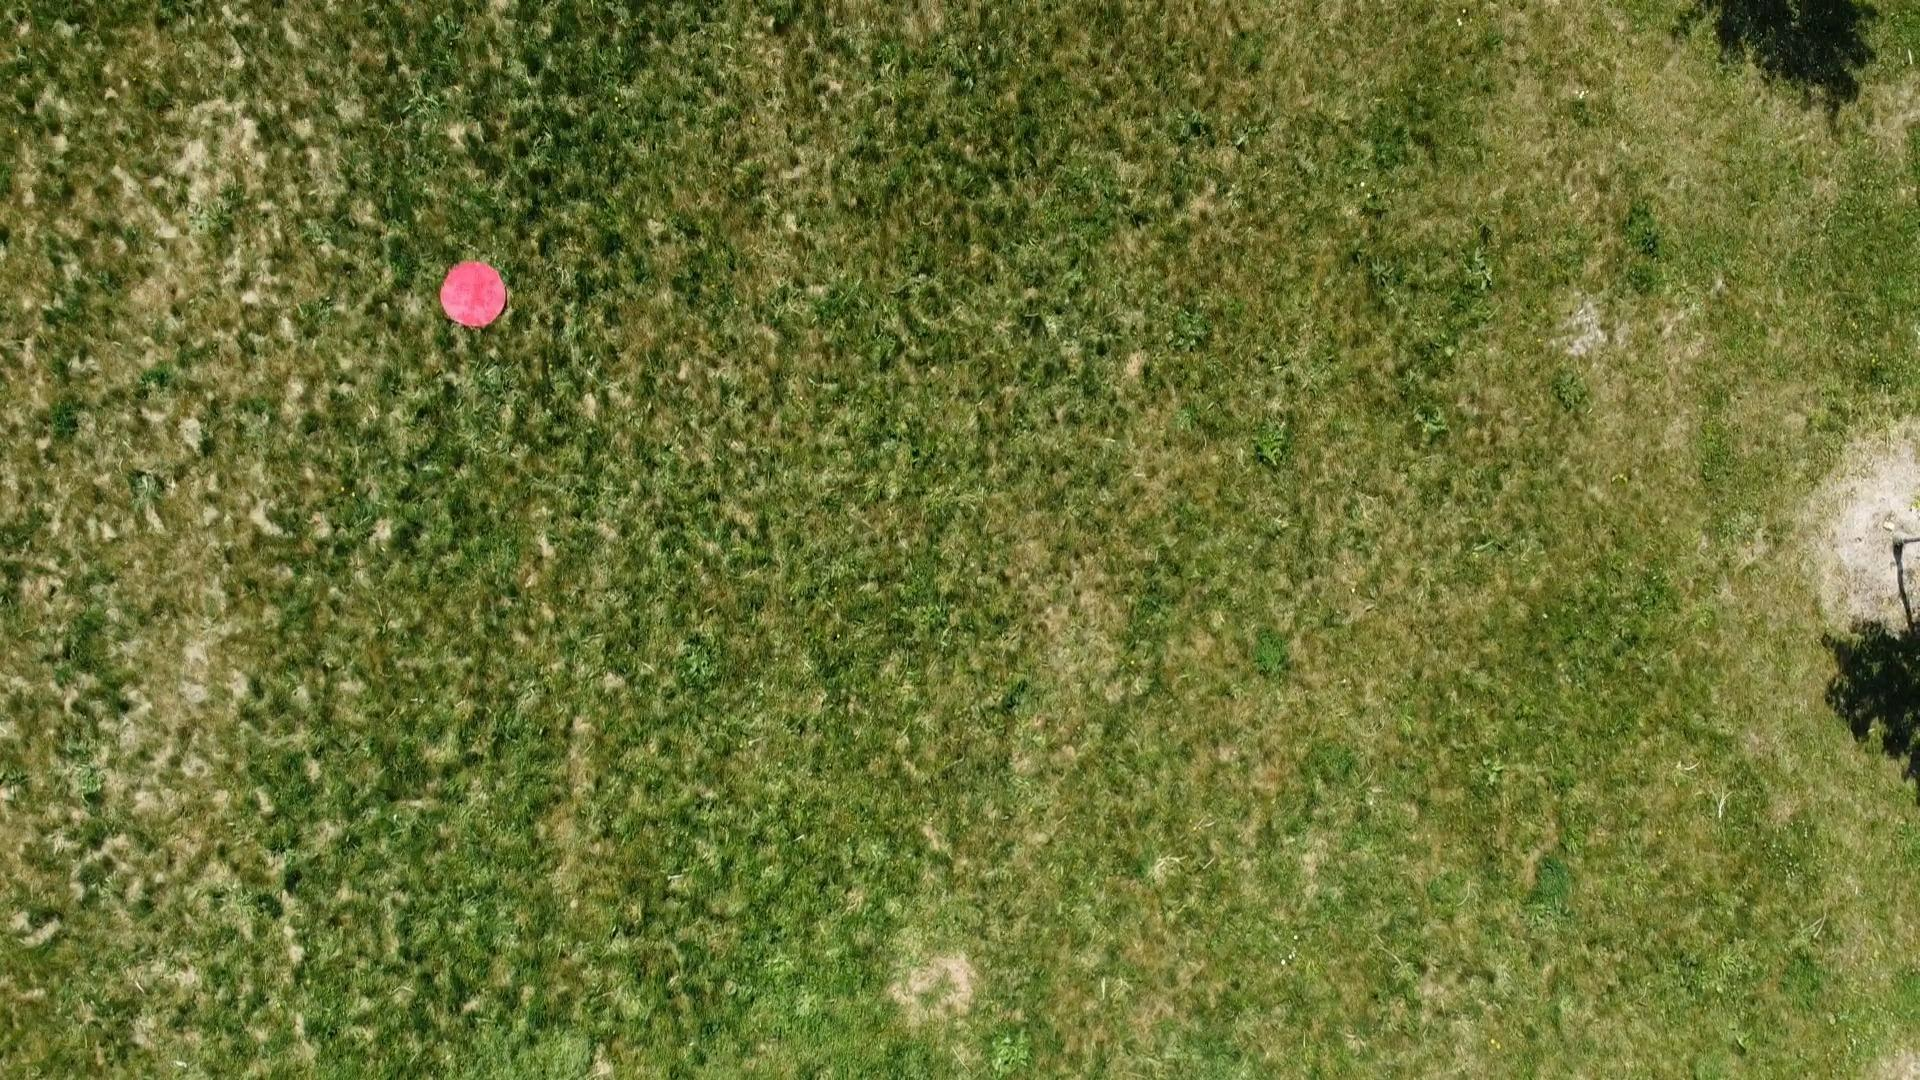Red: (436, 258, 509, 330)
